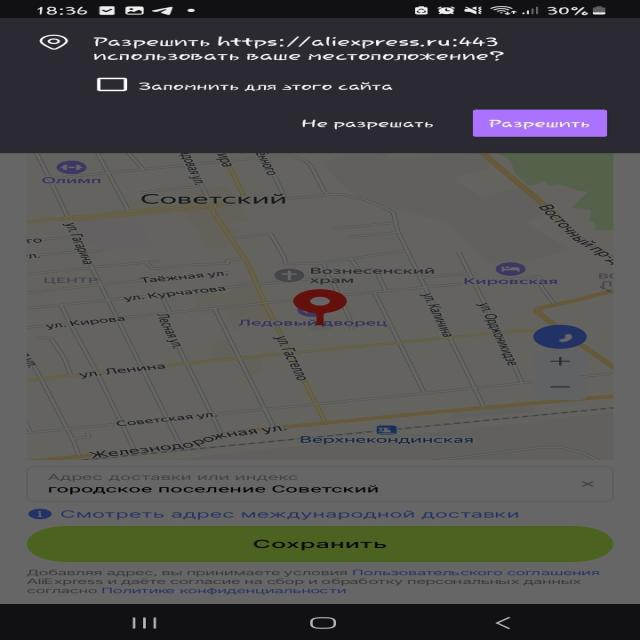button: (29, 527, 615, 564), (284, 109, 444, 137), (473, 109, 607, 137), (574, 477, 604, 491)
site: (4, 468, 640, 602)
system: (0, 17, 640, 152)
